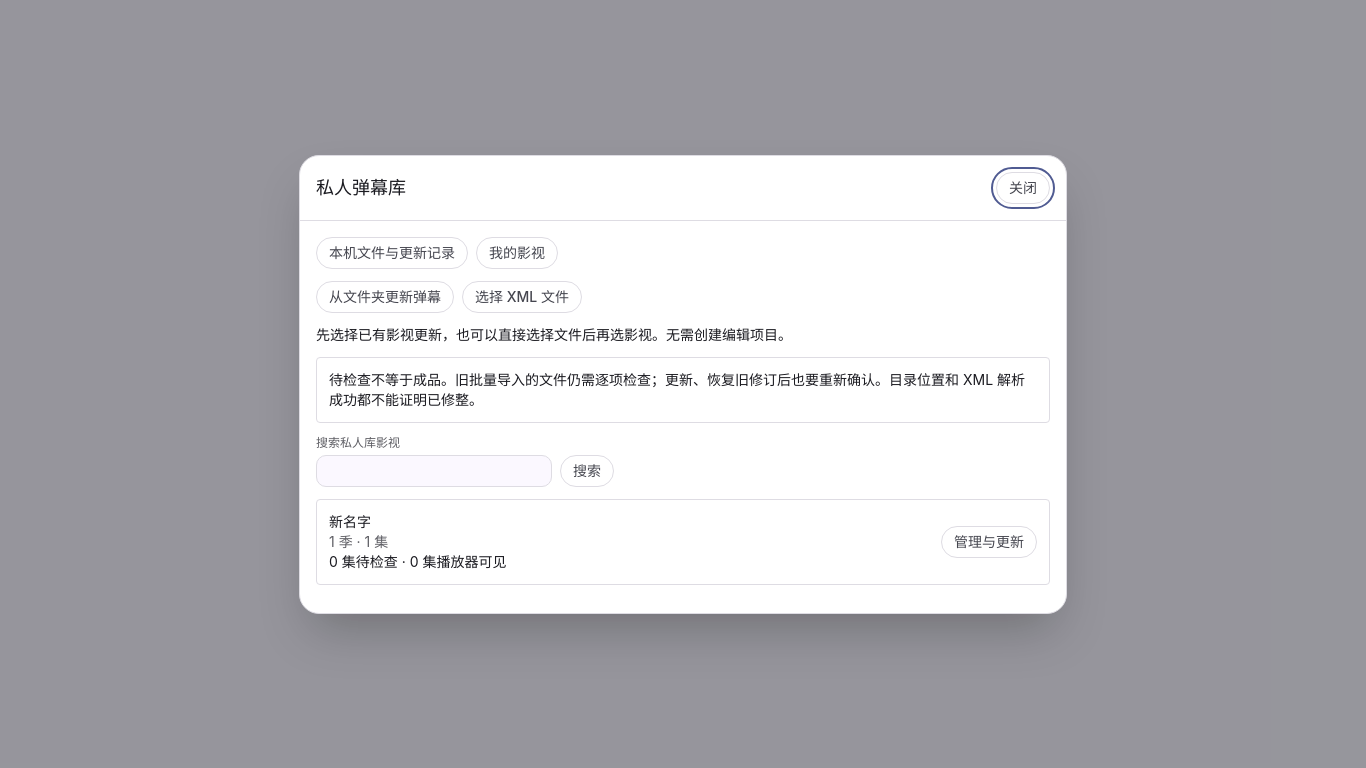
it: shows publication records and respects cloud restore capability false
Expected: the text "新名字" is shown, [329,512,371,530]
Click the button "管理与更新": point(989, 542) [941,526,1037,558]
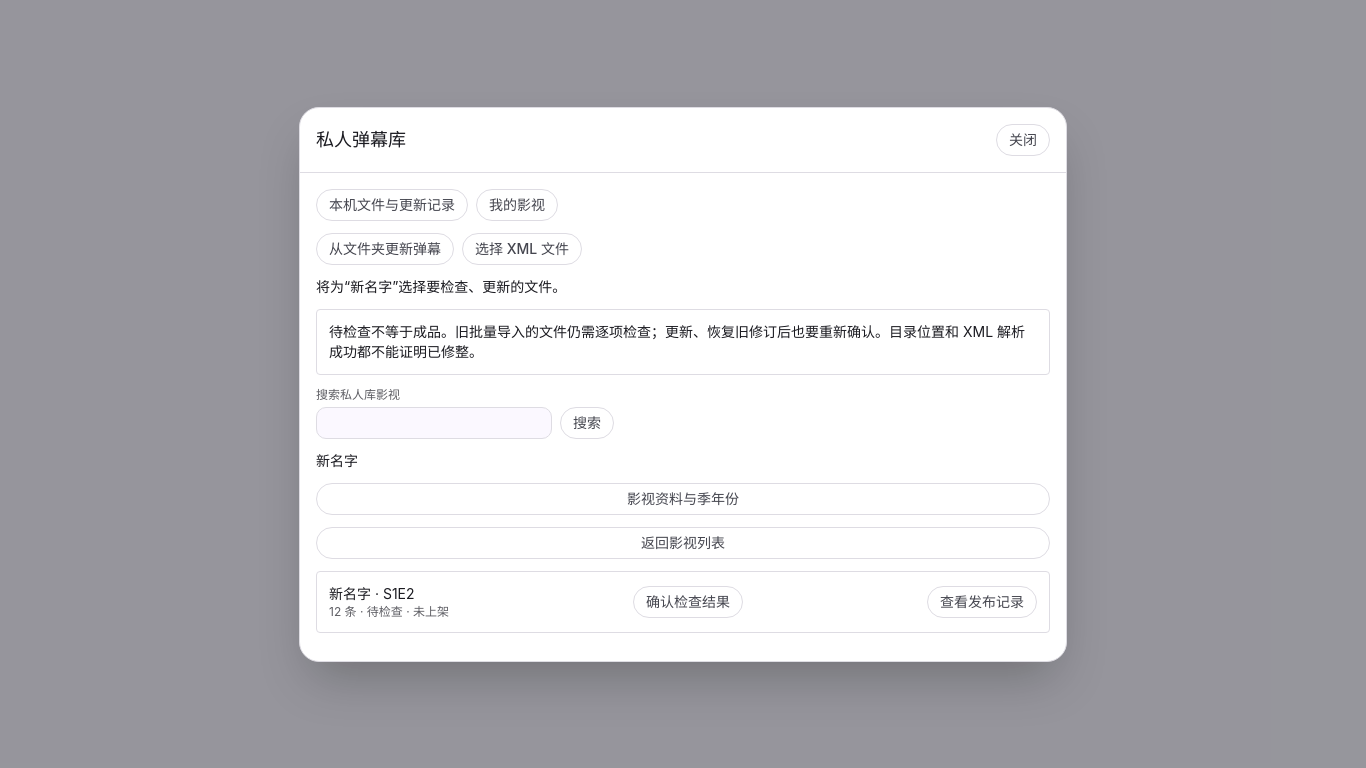
Expected: the button "查看发布记录" is shown
Click the button "查看发布记录": point(982, 602) [927,586,1037,618]
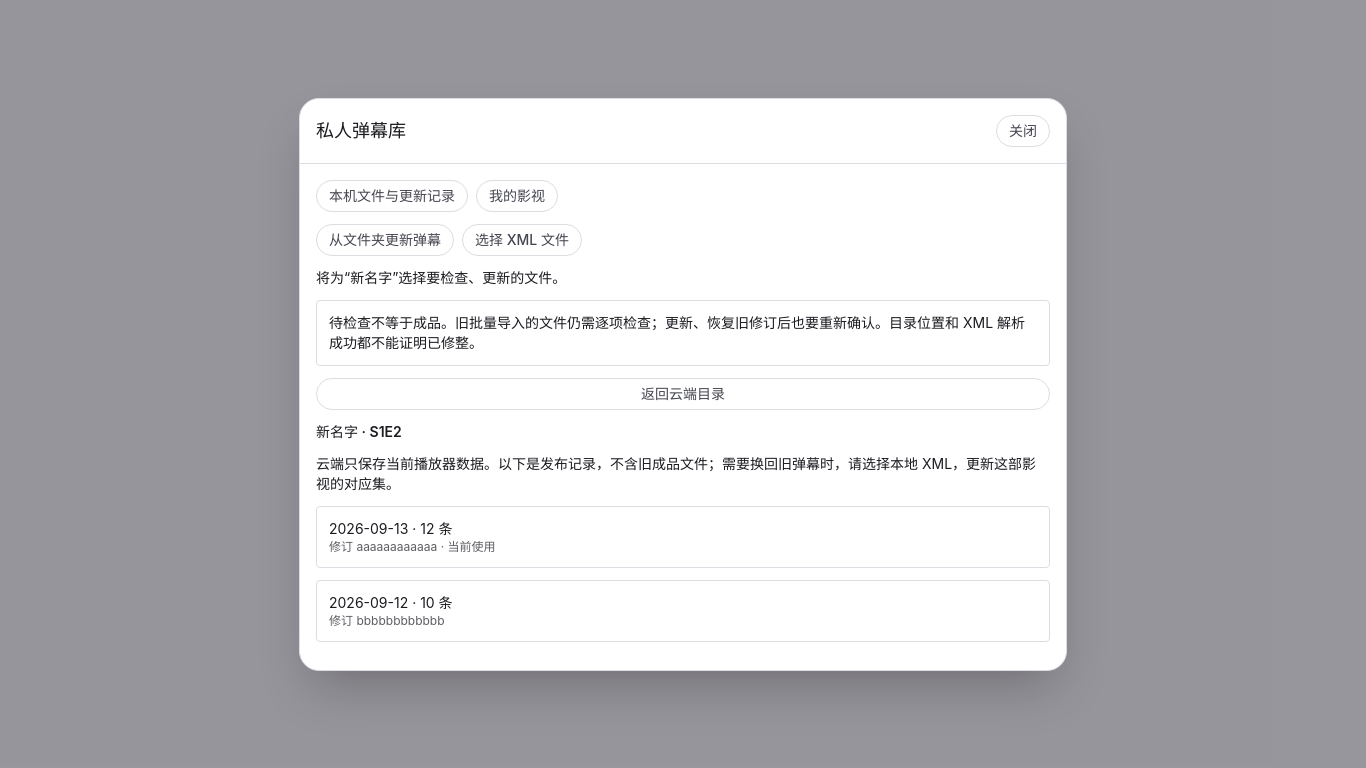
Expected: the text "修订 bbbbbbbbbbbb" is shown, [329,612,453,628]
Expected: the text "云端只保存当前播放器数据。以下是发布记录，不含旧成品文件；需要换回旧弹幕时，请选择本地 XML，更新这部影视的对应集。" is shown, [316,454,1050,494]
